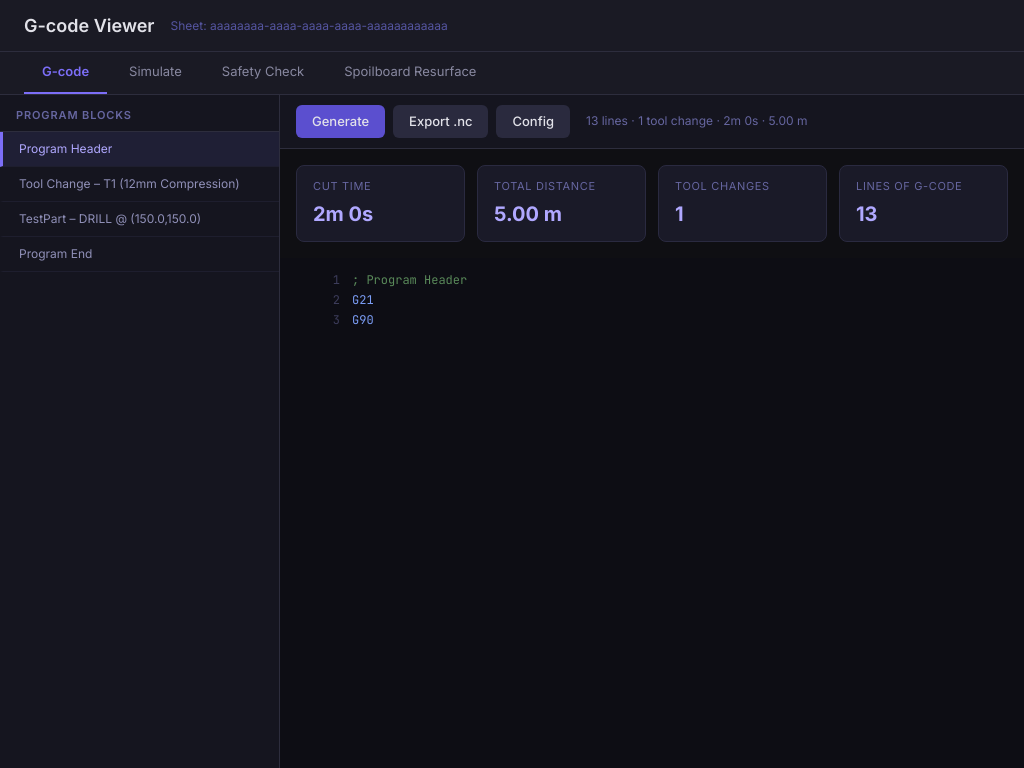
Test: Config panel › Config button toggles the config editor panel
Expected: the text "Safe Z Height" is not shown
Click the button "Config" at (533, 121), box left=496, top=104, right=570, bottom=138
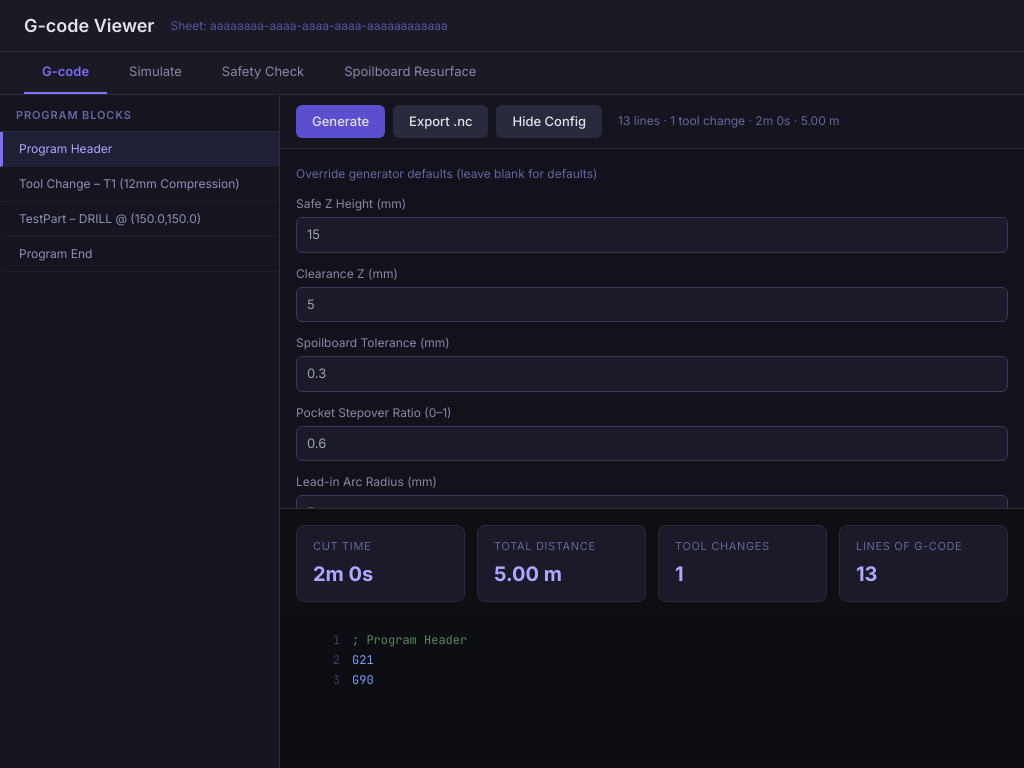
Result: the text "Safe Z Height (mm)" is shown at left=296, top=196, right=406, bottom=211
Click the button "Hide Config" at (549, 121), box left=496, top=104, right=602, bottom=138
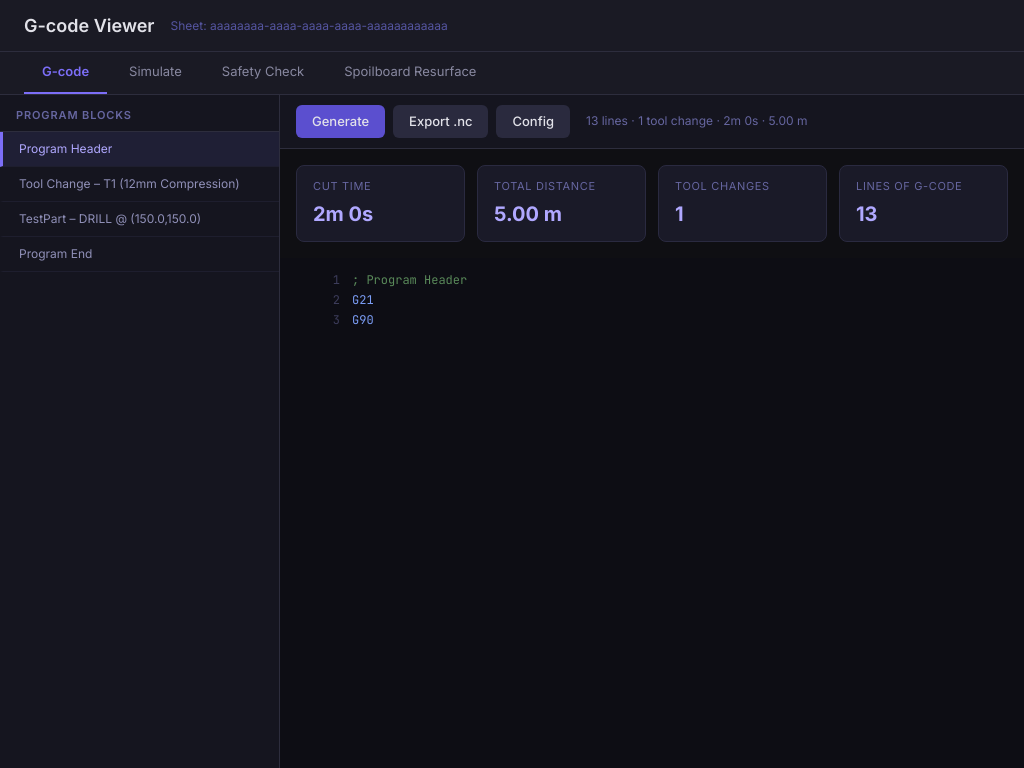
Result: the text "Safe Z Height" is gone
